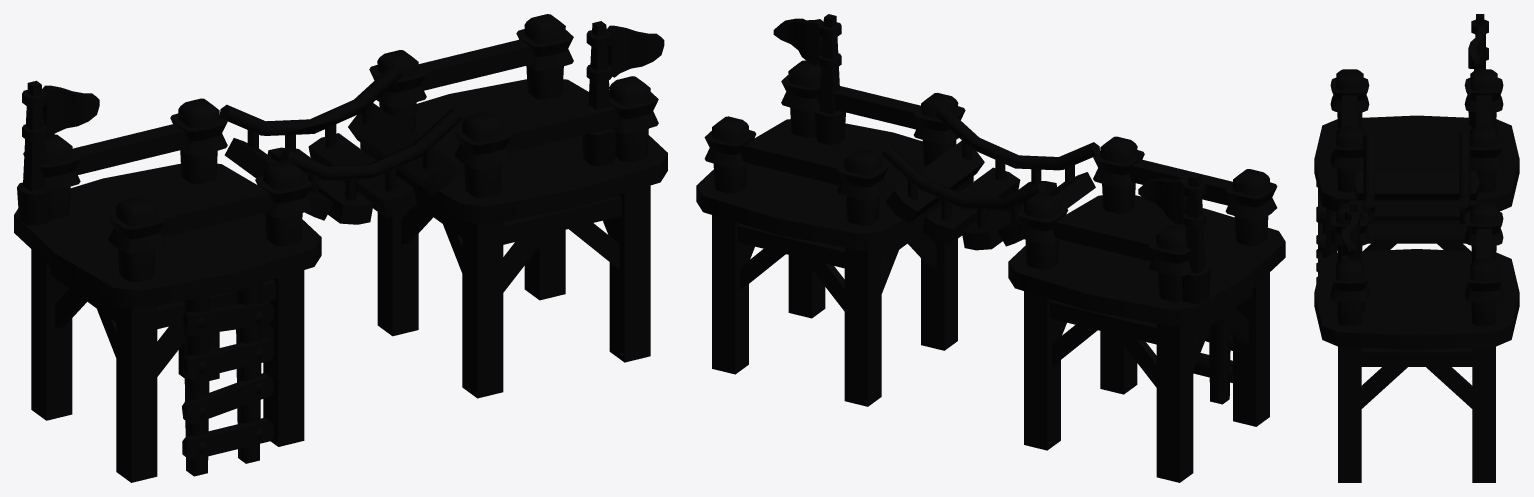
Rendered from rope-bridge.glb.
3 views of the same model, side by side, from view 1: azimuth 30°, elevation 25°; view 2: azimuth 150°, elevation 25°; view 3: azimuth 270°, elevation 25° (orthographic). The views are drawn at different scales.
Visible parts, largest first — view 1: building-structure; view 2: building-structure; view 3: building-structure.
Part boxes in pixels (x1,y1,x2,y2): building-structure: (14, 14, 667, 482); building-structure: (696, 14, 1285, 482); building-structure: (1314, 14, 1519, 482).
Bounding box in the file's own units: 3.3 × 1.85 × 1.3.
Materials: 1 (1 with a texture image).
